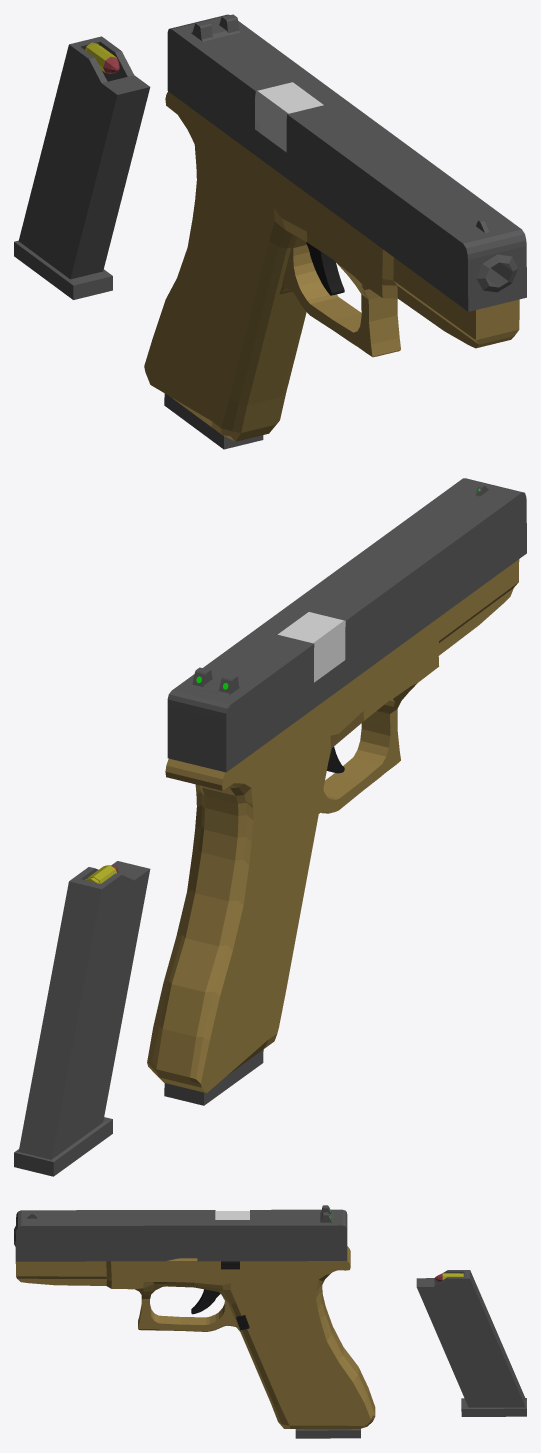
The model's file is _lock18.fbx.
The picture shows the model from 3 angles, top to bottom: view 1: azimuth 30°, elevation 25°; view 2: azimuth 150°, elevation 25°; view 3: azimuth 270°, elevation 25°; orthographic projection. The views are drawn at different scales.
Parts seen in each view (by area): view 1: Glock18, Rechargeur, Chargeur_2, Chargeur, Gachette, Balle_Entiere; view 2: Glock18, Rechargeur, Chargeur_2, Chargeur; view 3: Glock18, Rechargeur, Chargeur_2, Chargeur, Gachette.
Part boxes in pixels (x1,y1,x2,y2): Glock18: (144, 82, 519, 441); Rechargeur: (167, 14, 526, 311); Chargeur_2: (14, 36, 150, 299); Chargeur: (164, 393, 263, 449); Gachette: (306, 242, 344, 295); Balle_Entiere: (85, 42, 119, 73); Glock18: (147, 559, 519, 1093); Rechargeur: (167, 478, 526, 772); Chargeur_2: (14, 861, 150, 1176); Chargeur: (164, 1049, 263, 1105); Glock18: (14, 1211, 375, 1428); Rechargeur: (15, 1205, 347, 1261); Chargeur_2: (416, 1270, 526, 1416); Chargeur: (295, 1429, 360, 1438); Gachette: (191, 1289, 220, 1314).
Size of the model in its own units: 10.94 by 65.78 by 137.
